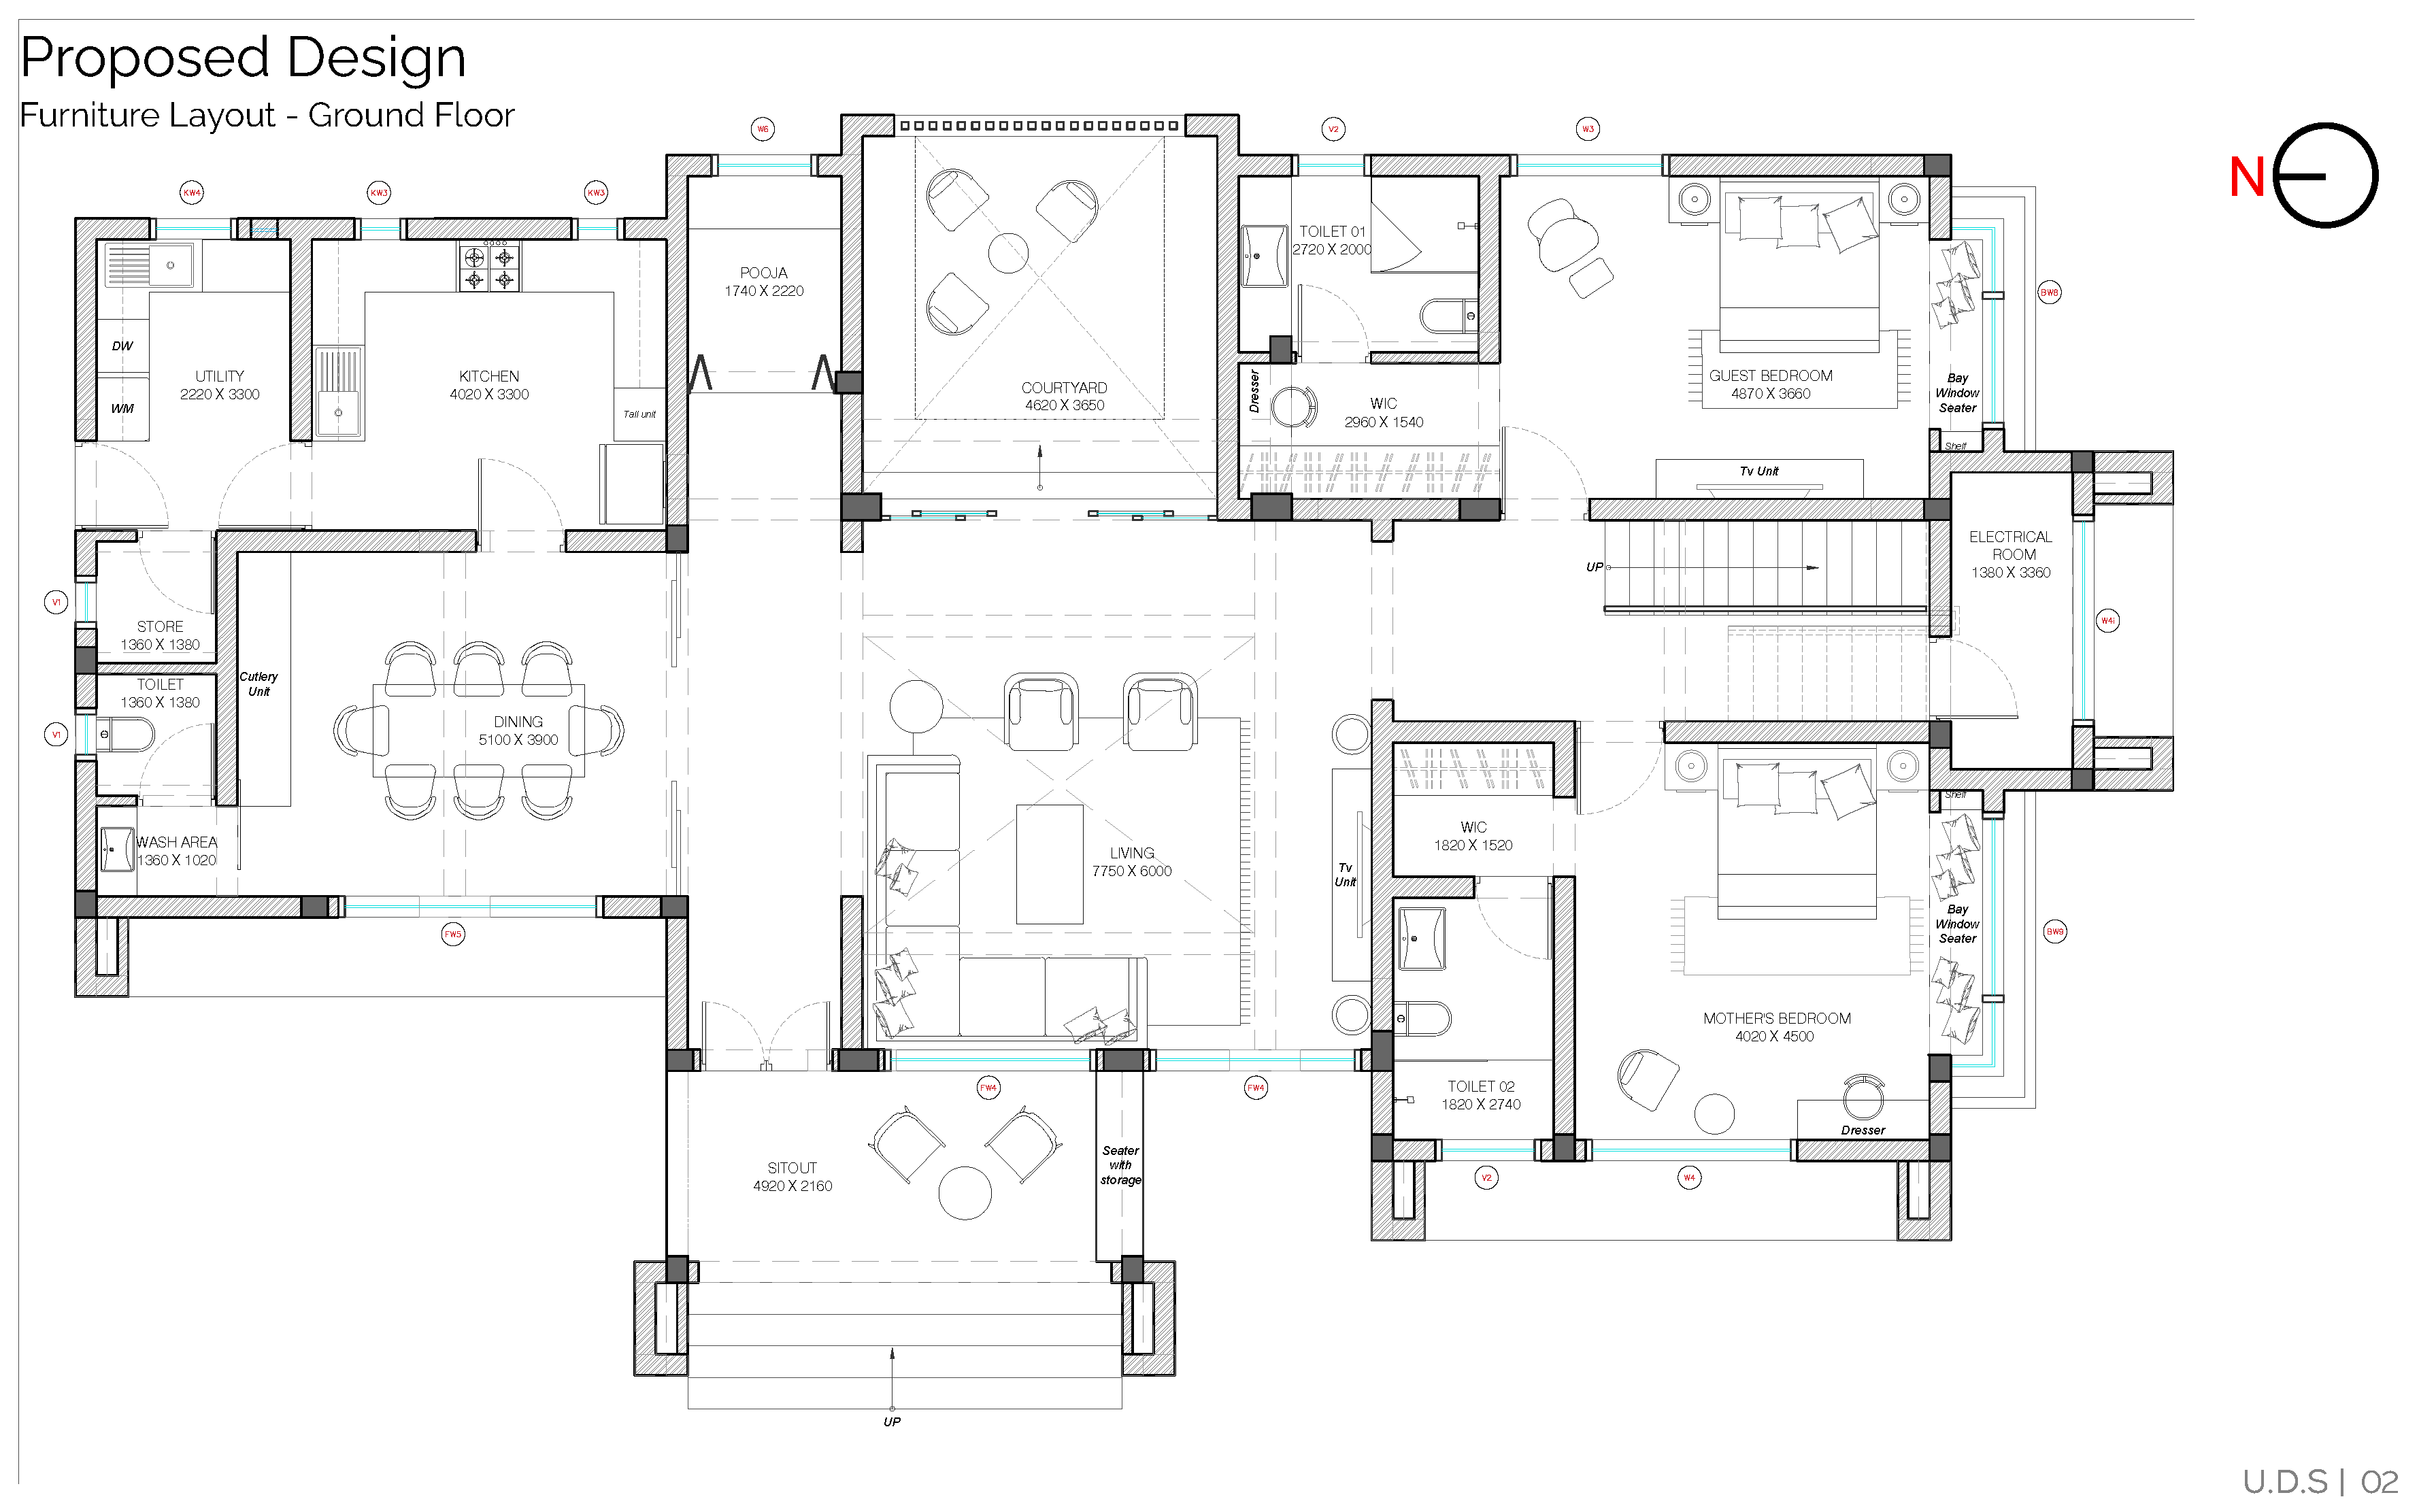door: (474, 451, 573, 542), (1496, 422, 1592, 514), (1571, 726, 1667, 819), (80, 435, 171, 531), (214, 439, 303, 533), (1935, 629, 2022, 721), (1470, 876, 1557, 963), (132, 721, 221, 805), (131, 535, 219, 615), (1294, 279, 1379, 361), (765, 995, 834, 1068), (698, 996, 765, 1064)
